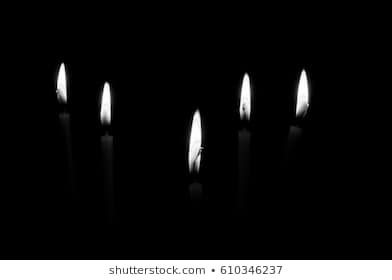Fire: (186, 111, 208, 171), (236, 74, 255, 122), (297, 69, 313, 118), (99, 81, 113, 125), (54, 61, 69, 100)
